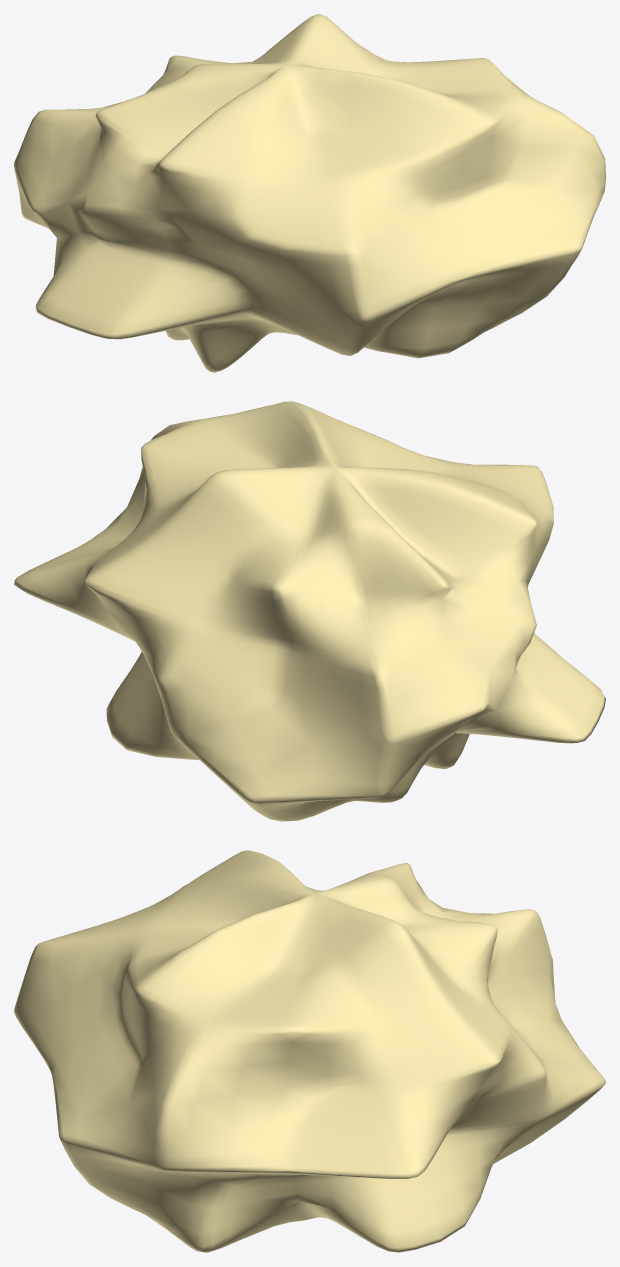
File: PROP_LeafPile_v1.glb
3 views of the same model, one above another, from view 1: azimuth 30°, elevation 25°; view 2: azimuth 150°, elevation 25°; view 3: azimuth 270°, elevation 25° (orthographic). The views are drawn at different scales.
Visible parts, largest first — view 1: PROP_LeafPile_v1; view 2: PROP_LeafPile_v1; view 3: PROP_LeafPile_v1.
Boxes of the visible parts, bbox=[...] form: PROP_LeafPile_v1: bbox=[14, 14, 605, 372]; PROP_LeafPile_v1: bbox=[14, 401, 605, 821]; PROP_LeafPile_v1: bbox=[14, 850, 605, 1252].
Size of the model in its own units: 1.11 by 0.6138 by 1.06.
